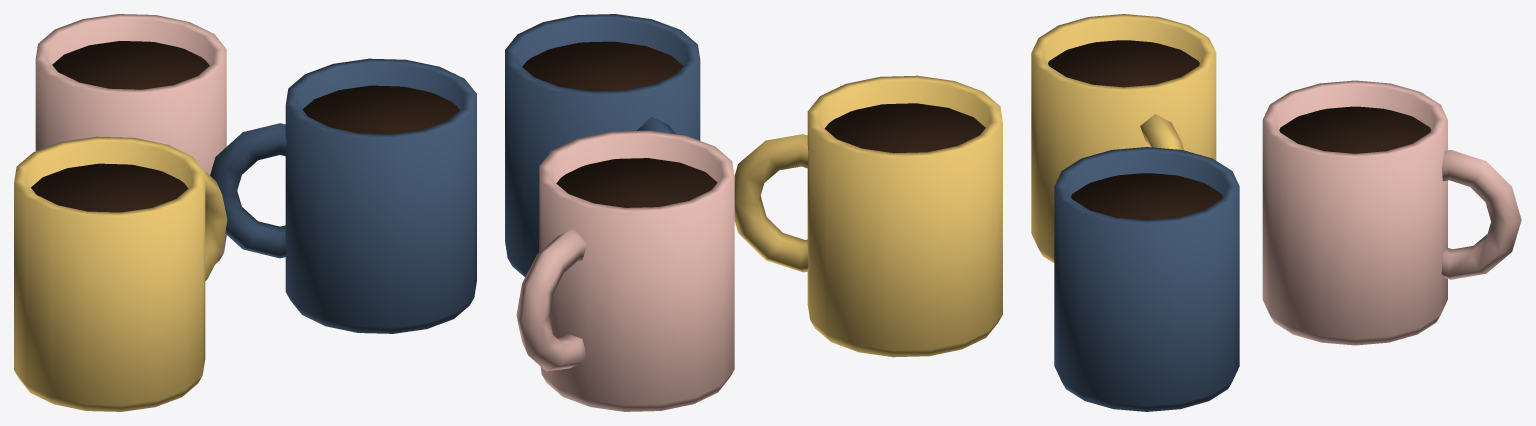
File: mugs.glb
3 views of the same model, side by side, from view 1: azimuth 30°, elevation 25°; view 2: azimuth 150°, elevation 25°; view 3: azimuth 270°, elevation 25° (orthographic). The views are drawn at different scales.
Parts seen in each view (by area): view 1: mugs; view 2: mugs; view 3: mugs.
Part boxes in pixels (left/top/right/bottom): mugs: left=14, top=14, right=476, bottom=411; mugs: left=505, top=14, right=1002, bottom=411; mugs: left=1031, top=14, right=1521, bottom=411.
Size of the model in its own units: 0.216 by 0.09 by 0.2119.
